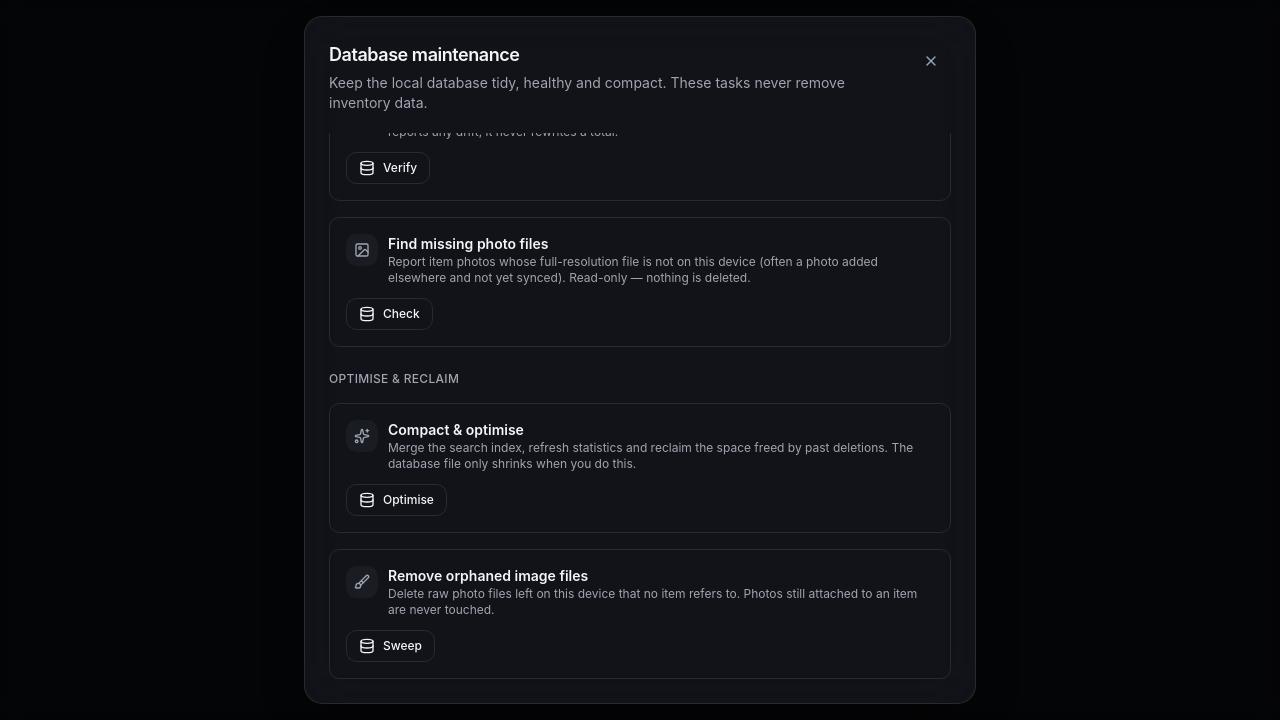
Test: DatabaseMaintenanceDialog › reports an already-compact database without inventing stats
The width and height of the screenshot is (1280, 720).
(page scrolled)
Click the button with test id "maintenance-compact-run". click: (396, 500)
box: x1=346 y1=484 x2=447 y2=516
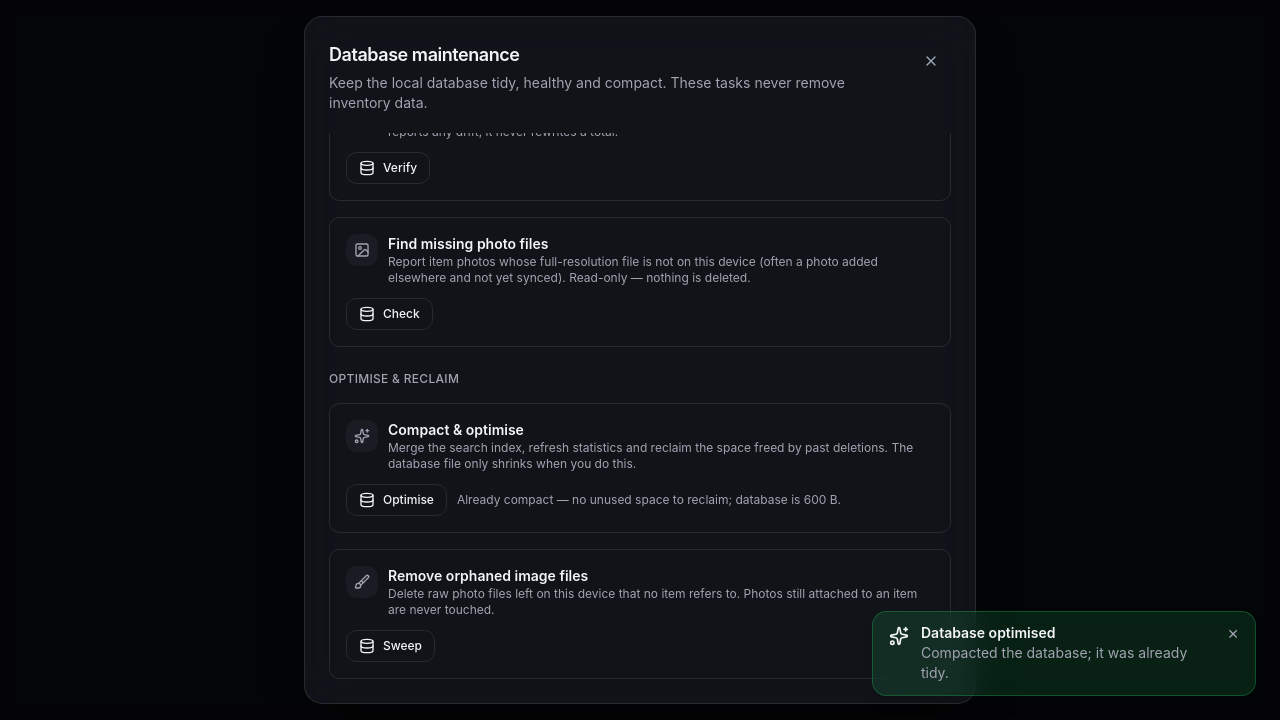
Result: the text with test id "maintenance-compact-result" shows "Already compact" at x1=457 y1=492 x2=841 y2=507
